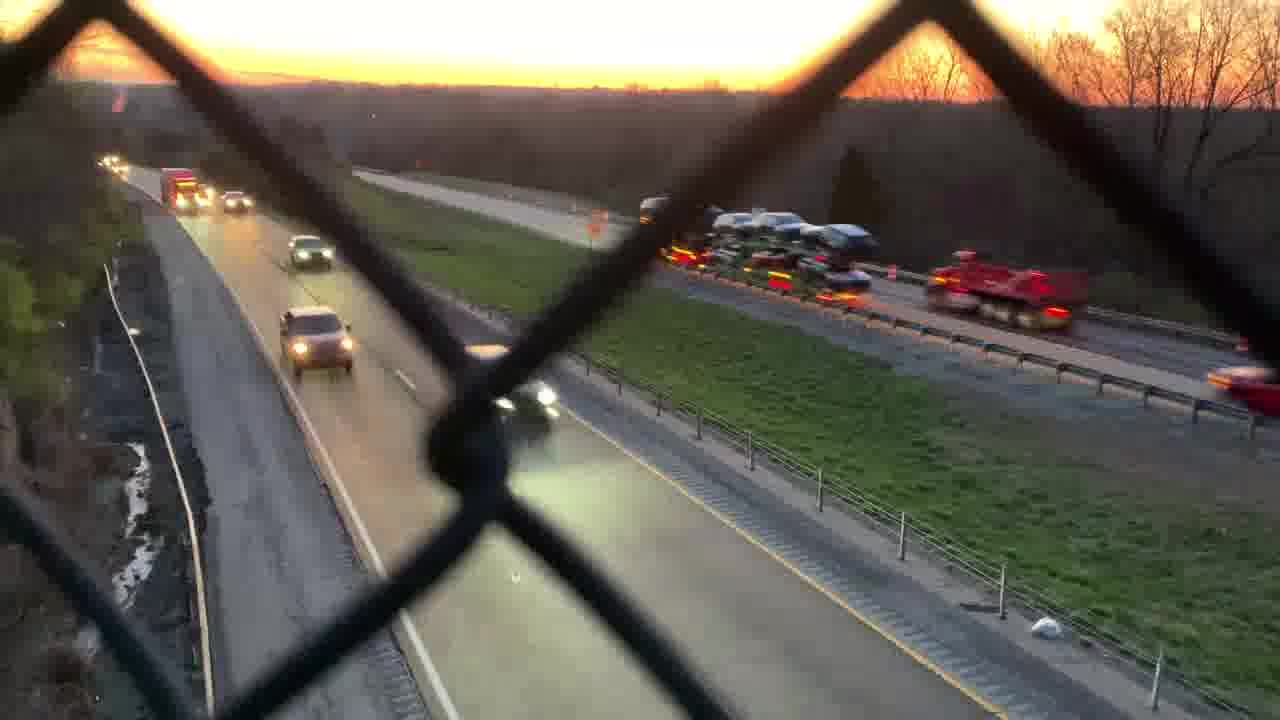heavyTruck: (639, 193, 894, 307), (924, 252, 1084, 330)
lightTruck: (276, 298, 359, 378)
